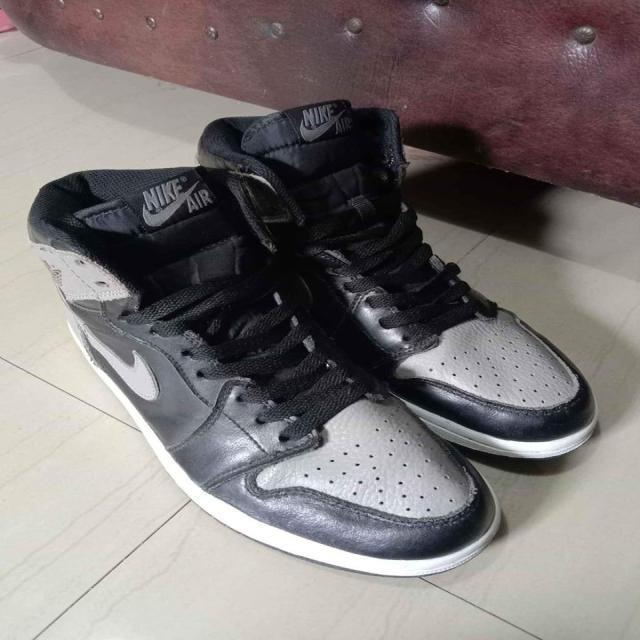nike fake jordan 1: (26, 164, 506, 578), (196, 98, 602, 458)
